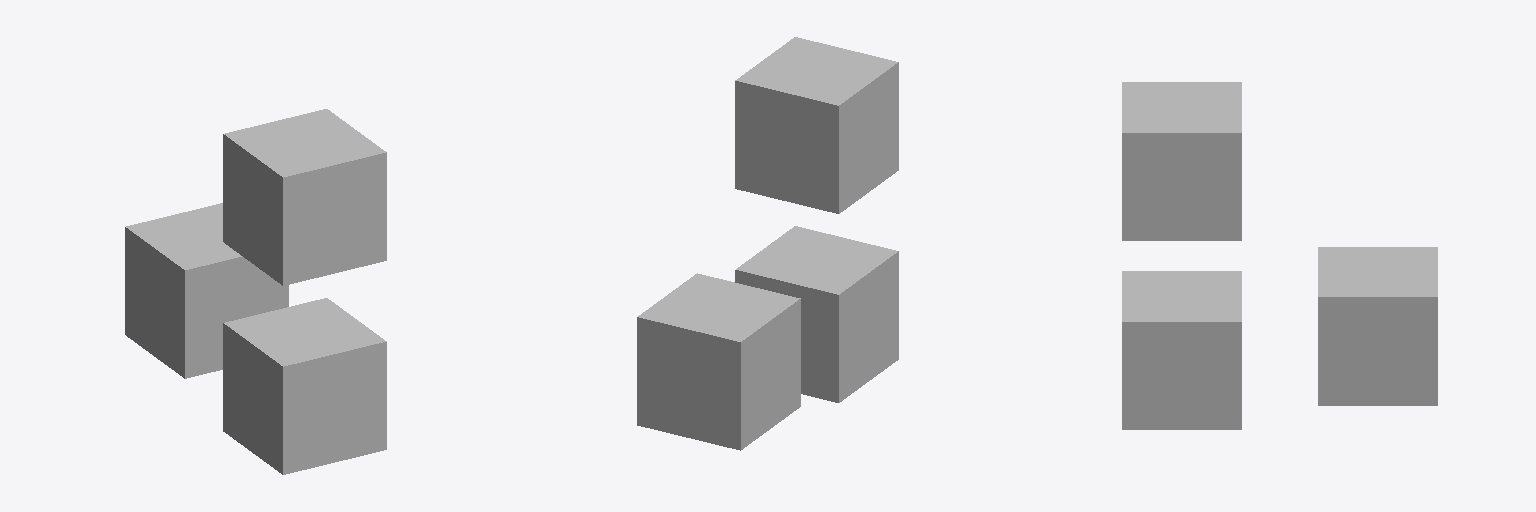
The model's file is carr.obj.
3 views of the same model, side by side, from view 1: azimuth 30°, elevation 25°; view 2: azimuth 150°, elevation 25°; view 3: azimuth 270°, elevation 25° (orthographic).
Visible parts, largest first — view 1: Cube.001, Cube, Cube.002; view 2: Cube.002, Cube.001, Cube; view 3: Cube, Cube.001, Cube.002.
Boxes of the visible parts, <box> form: Cube.001: <box>223,109,386,285</box>; Cube: <box>223,298,386,474</box>; Cube.002: <box>125,203,288,378</box>; Cube.002: <box>637,273,800,450</box>; Cube.001: <box>735,37,898,213</box>; Cube: <box>735,226,898,402</box>; Cube: <box>1122,271,1241,429</box>; Cube.001: <box>1122,82,1241,240</box>; Cube.002: <box>1318,247,1437,405</box>.
Size of the model in its own units: 2 by 5.49 by 5.28.